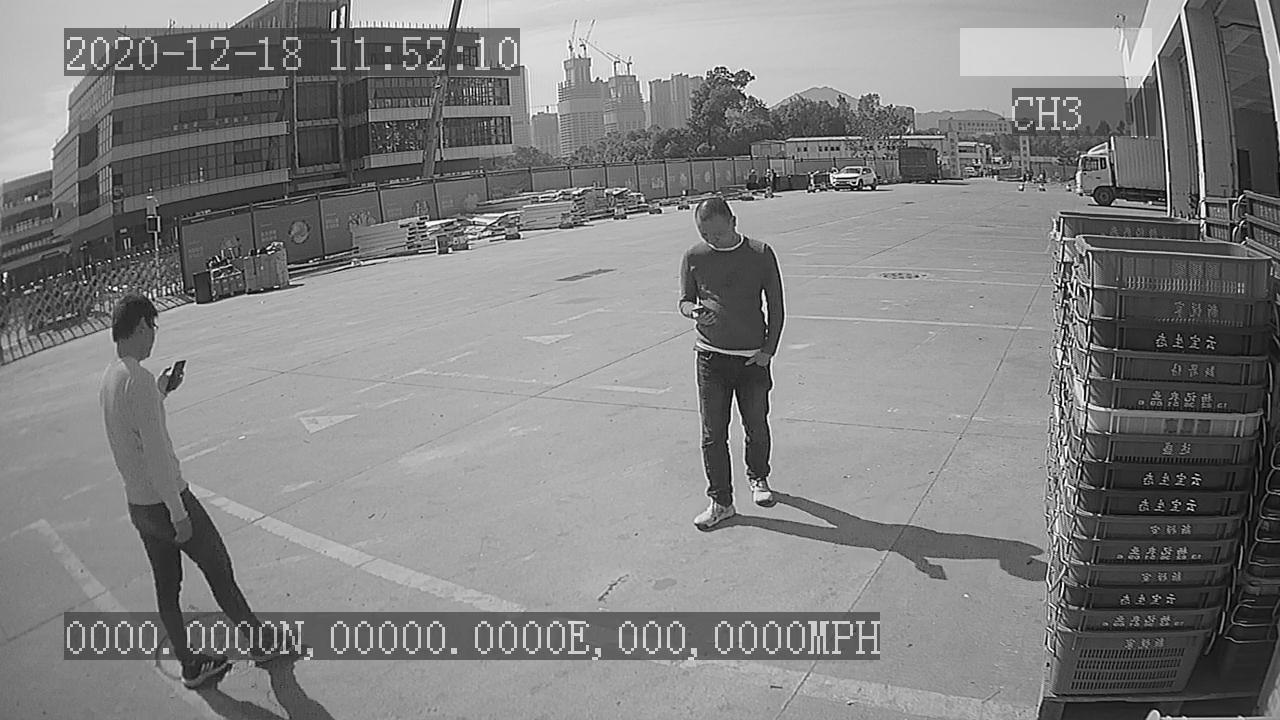person: (672, 190, 792, 538)
